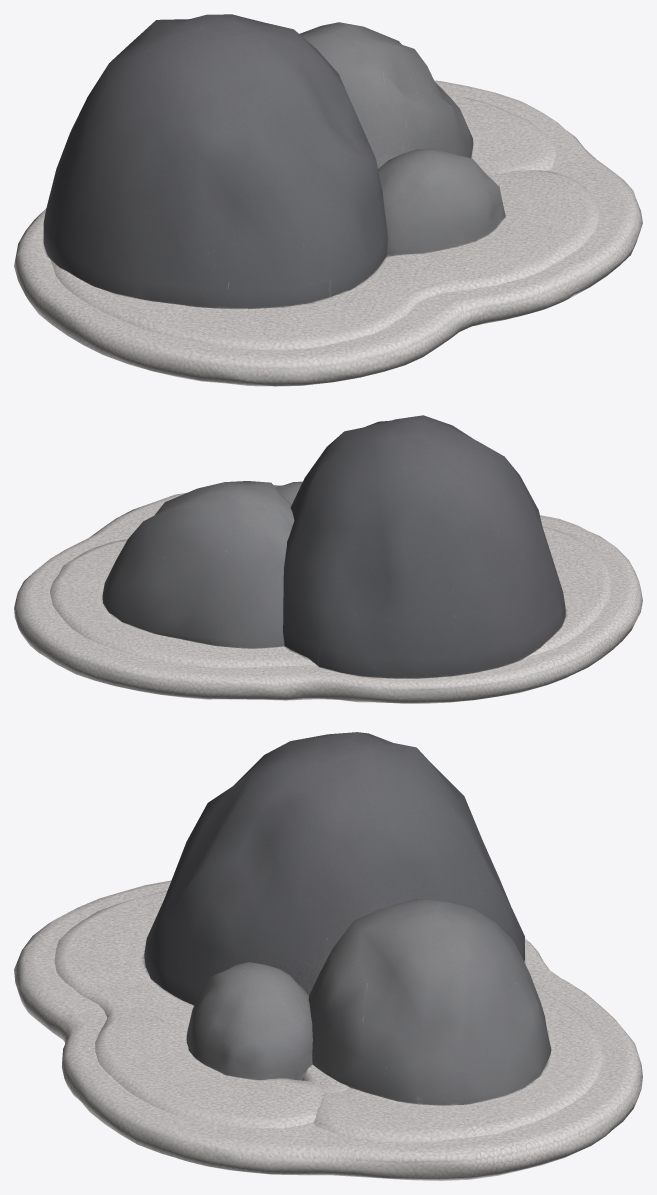
Rendered from ground_dressing.glb.
3 views of the same model, one above another, from view 1: azimuth 30°, elevation 25°; view 2: azimuth 150°, elevation 25°; view 3: azimuth 270°, elevation 25° (orthographic). The views are drawn at different scales.
Bounding box in the file's own units: 1 × 0.4062 × 0.9258.
Materials: 1 (1 with a texture image).
